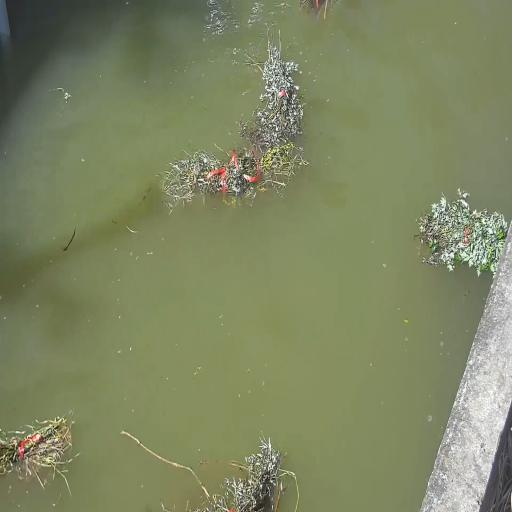twig: (159, 27, 307, 211), (121, 431, 299, 511), (412, 186, 511, 307), (0, 411, 78, 495), (294, 0, 340, 21)
